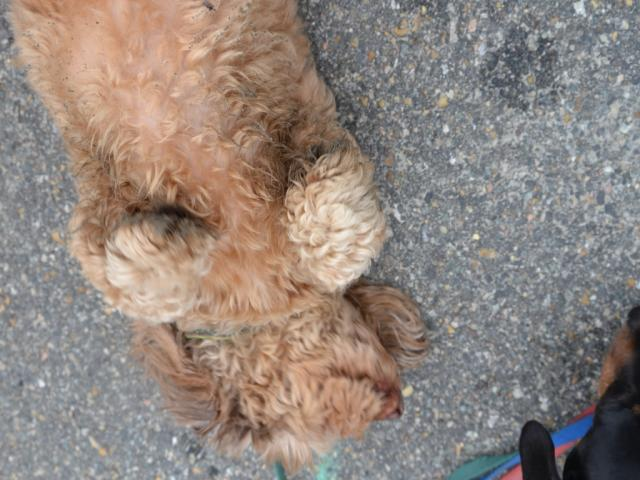Dog: (3, 0, 431, 477)
